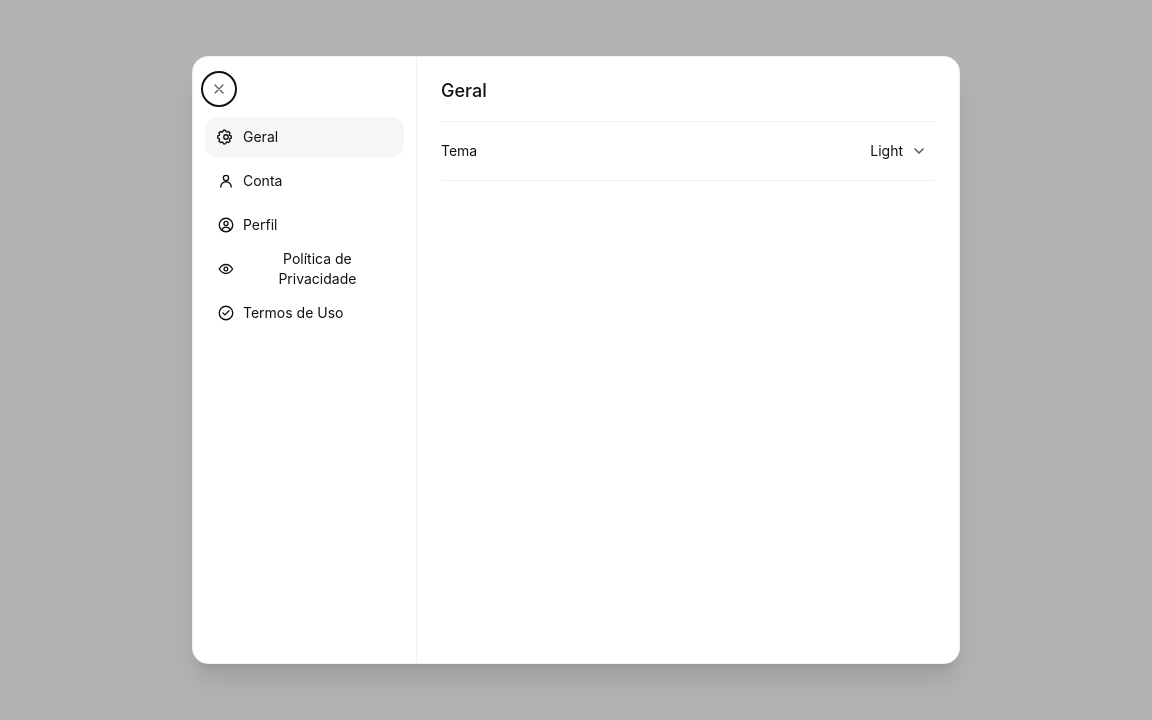
Test: SettingsDialog › offers an empty name field limited to the accepted length
Click the button "Perfil": x=304, y=225 [205, 205, 404, 245]
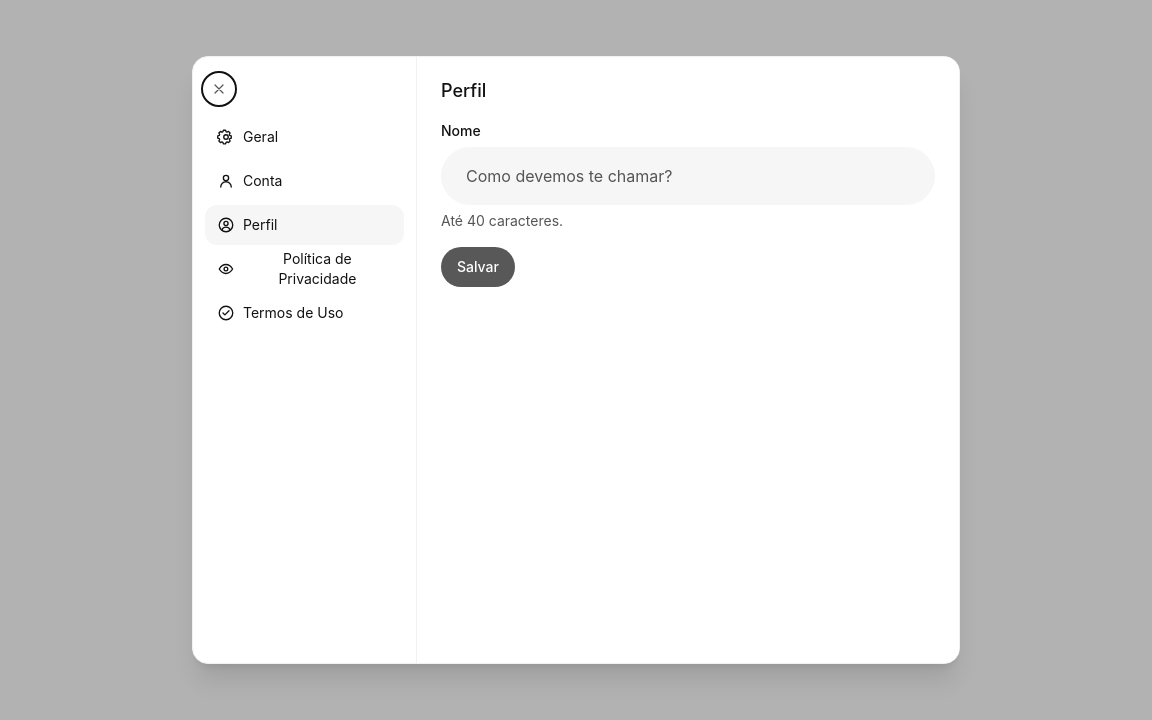
Check: the heading "Perfil" is shown, box [441, 80, 486, 101]
Check: the field labelled "Nome" is empty, box [441, 147, 935, 205]
Check: the button "Salvar" is disabled, box [441, 247, 515, 287]
